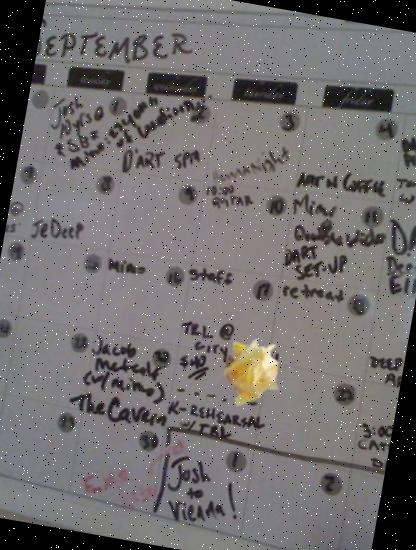Physalis: (210, 330, 296, 416)
